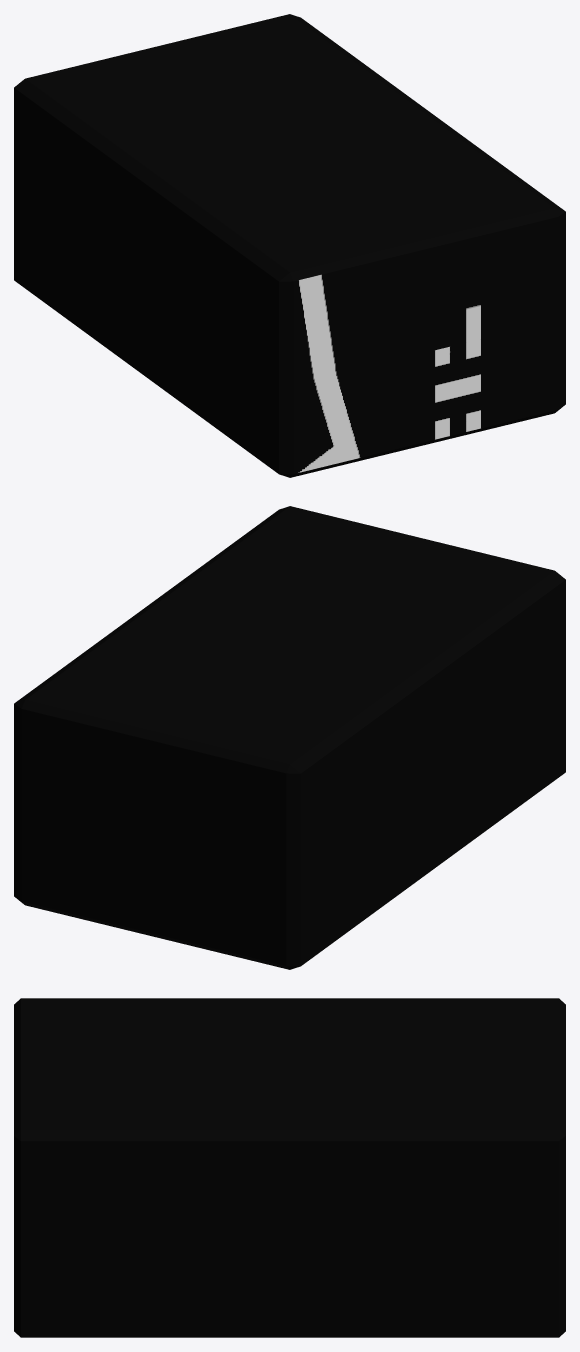
File: Carton_02.fbx
3 renders of one model, top to bottom at view 1: azimuth 30°, elevation 25°; view 2: azimuth 150°, elevation 25°; view 3: azimuth 270°, elevation 25°, orthographic.
Parts seen in each view (by area): view 1: Carton_02; view 2: Carton_02; view 3: Carton_02.
Part boxes in pixels (box(x1,y1,x2,y2)): Carton_02: box(14, 14, 565, 477); Carton_02: box(14, 506, 565, 969); Carton_02: box(14, 998, 565, 1337).
Bounding box in the file's own units: 289 × 198 × 475.
